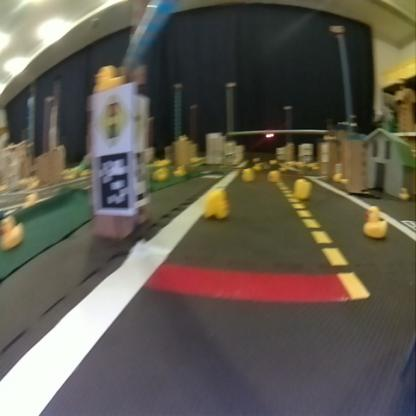Duckie: (362, 204, 387, 236), (94, 64, 124, 90), (0, 216, 23, 248), (204, 189, 226, 217), (294, 178, 310, 198), (242, 168, 254, 180), (267, 170, 278, 181), (398, 187, 407, 200)
QR code: (93, 154, 128, 212)
Signal sign: (94, 96, 127, 148)
